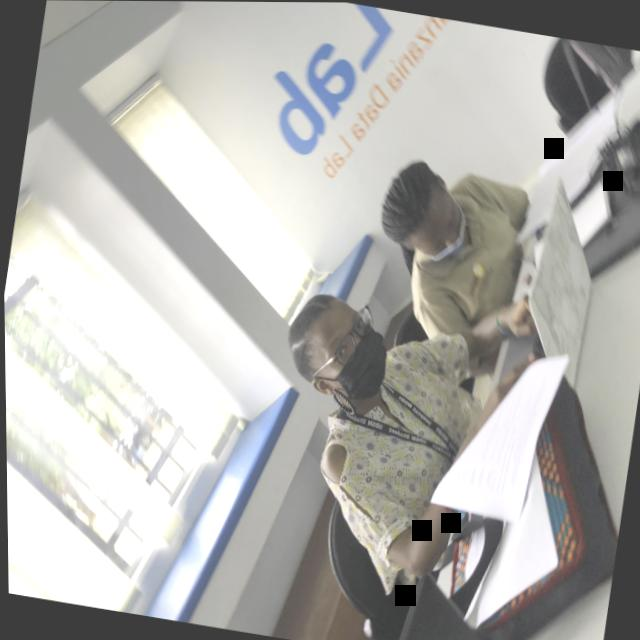Mask: (311, 300, 395, 414), (410, 189, 476, 276)
